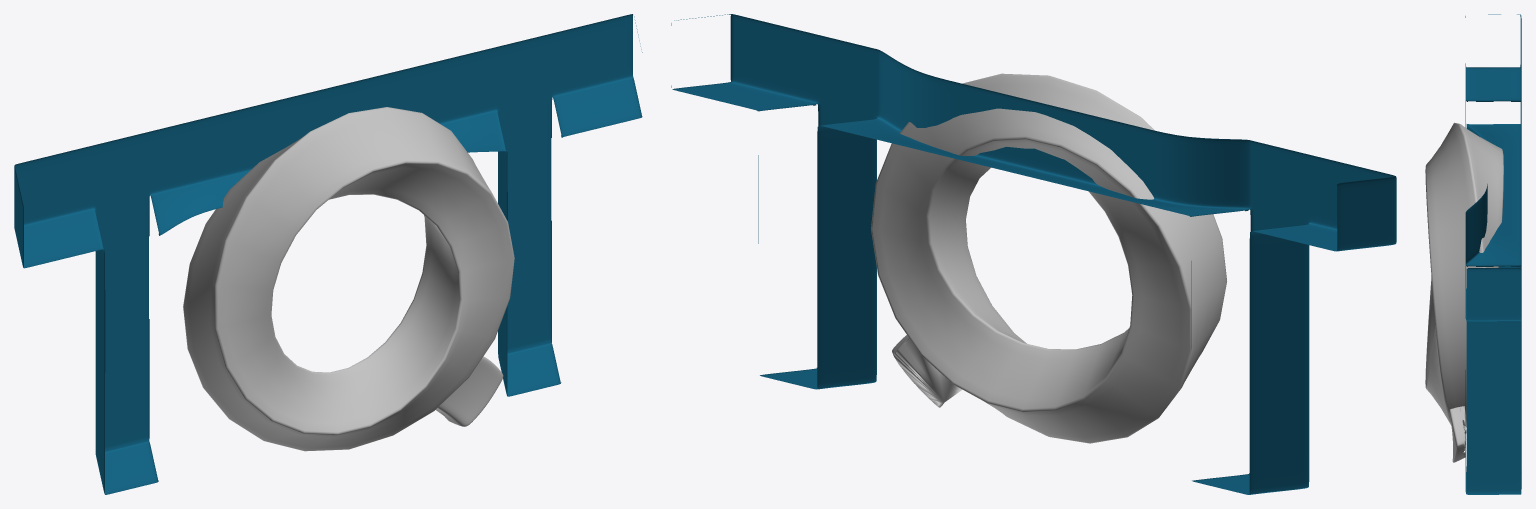
File: tqt.gltf
3 views of the same model, side by side, from view 1: azimuth 30°, elevation 25°; view 2: azimuth 150°, elevation 25°; view 3: azimuth 270°, elevation 25° (orthographic). The views are drawn at different scales.
Visible parts, largest first — view 1: t_big010_printable003, Q_Front_printable003, Q_tail_printable001; view 2: t_big010_printable003, Q_Front_printable003, Q_tail_printable001; view 3: t_big010_printable003, Q_Front_printable003, Q_tail_printable001.
Boxes of the visible parts, x1=… form: t_big010_printable003: x1=14, y1=14, x2=642, y2=494; Q_Front_printable003: x1=183, y1=107, x2=514, y2=451; Q_tail_printable001: x1=436, y1=356, x2=503, y2=426; t_big010_printable003: x1=671, y1=14, x2=1396, y2=494; Q_Front_printable003: x1=871, y1=73, x2=1226, y2=443; Q_tail_printable001: x1=892, y1=335, x2=962, y2=407; t_big010_printable003: x1=1465, y1=14, x2=1521, y2=494; Q_Front_printable003: x1=1425, y1=122, x2=1503, y2=426; Q_tail_printable001: x1=1449, y1=406, x2=1466, y2=462.
Bounding box in the file's own units: 223 × 111 × 34.36.
